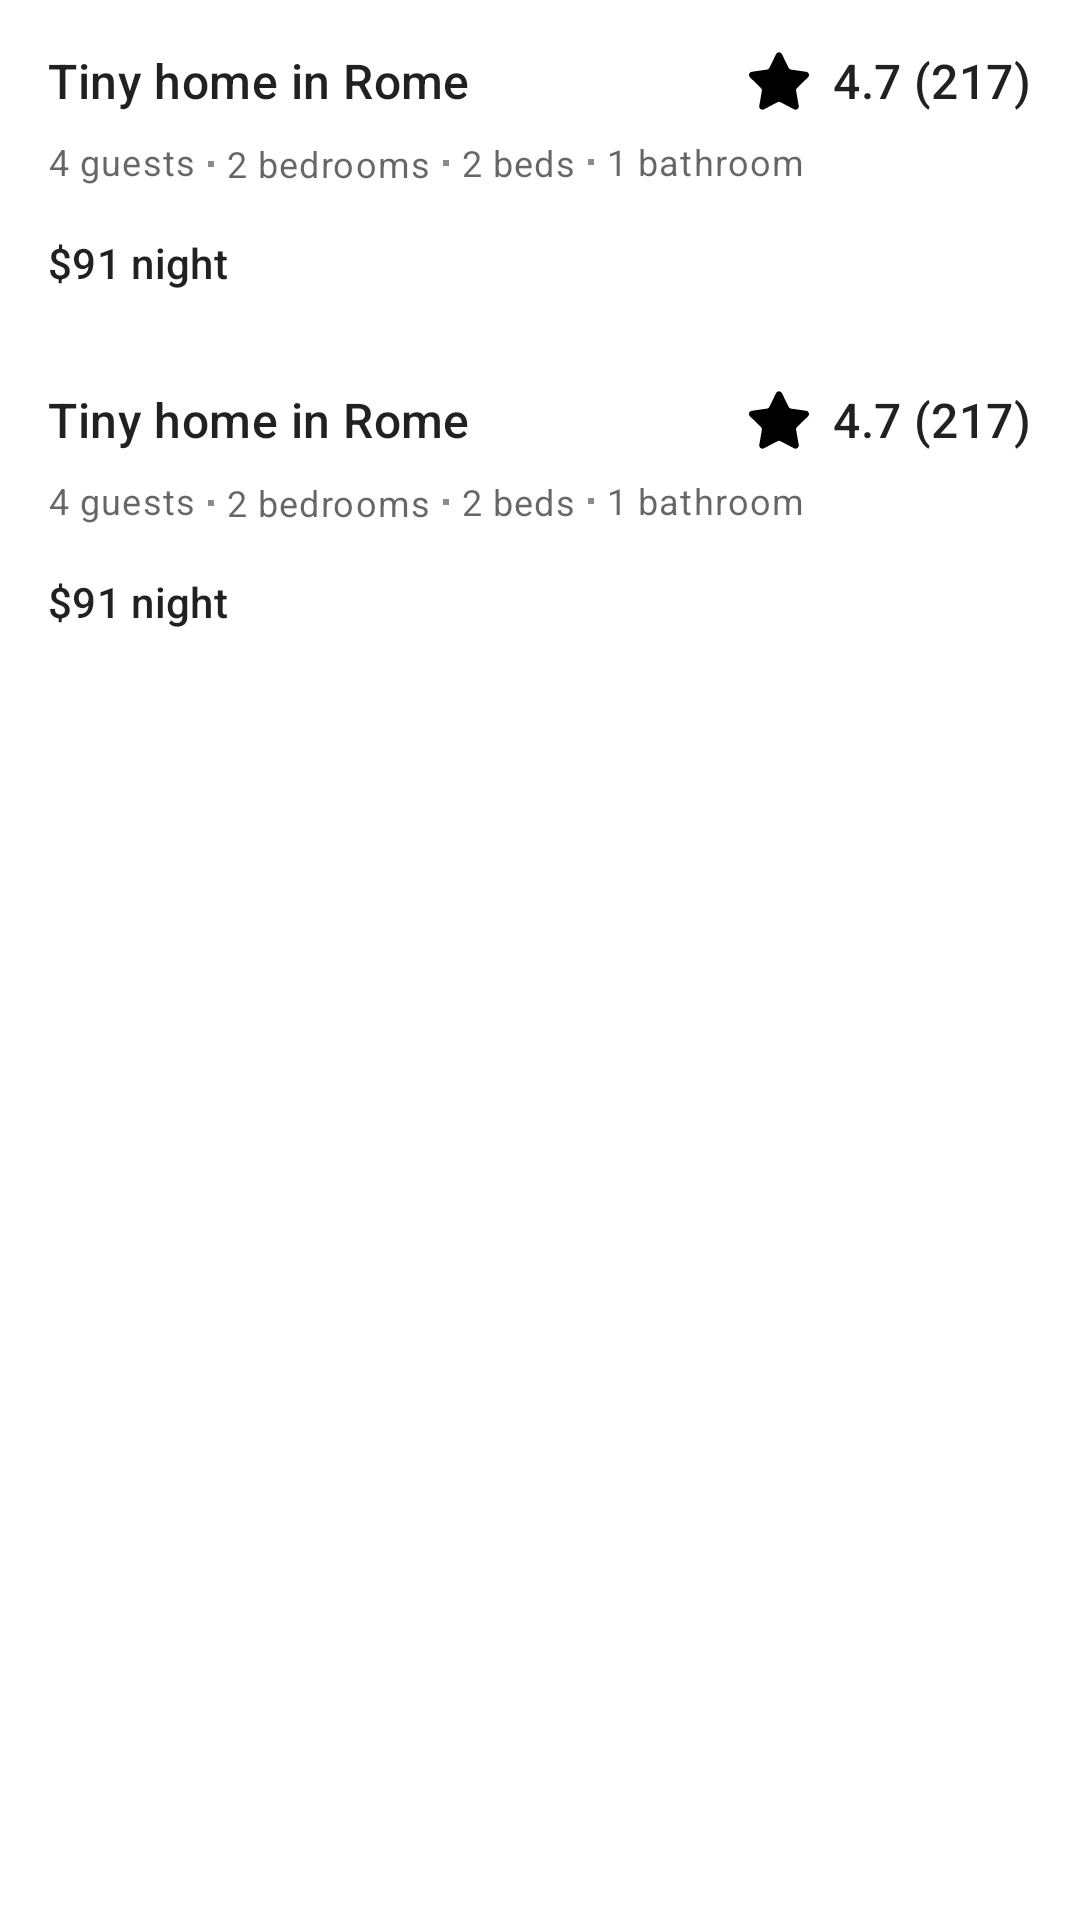

Screen size 1080 x 1920. Icon name, then its center in pixels as (x=x, y=y):
star: (x=779, y=81), (x=779, y=420)
